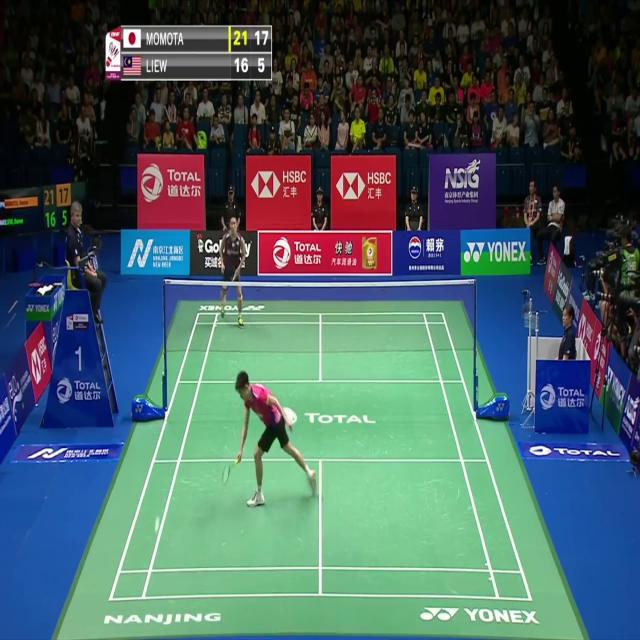Shuttlecock: (154, 517, 160, 528)
